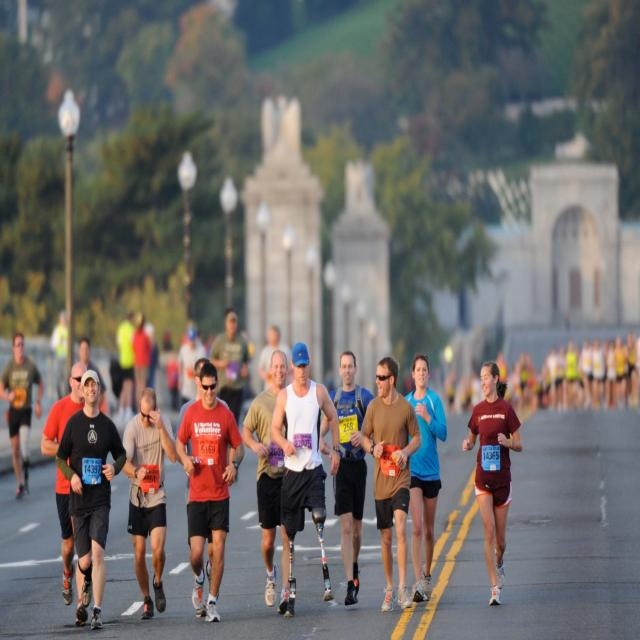body: (269, 341, 342, 618), (54, 368, 128, 630), (174, 360, 246, 624), (173, 357, 238, 619), (358, 353, 422, 614), (461, 358, 524, 608), (318, 349, 376, 607), (241, 349, 297, 615), (120, 386, 179, 622), (40, 360, 89, 626), (401, 354, 448, 604), (498, 332, 640, 412), (0, 331, 44, 501), (208, 310, 252, 466), (147, 319, 186, 410), (66, 336, 106, 411), (257, 323, 293, 391), (178, 327, 207, 407), (132, 313, 154, 414), (116, 308, 136, 419), (50, 310, 69, 401), (445, 362, 479, 412)
